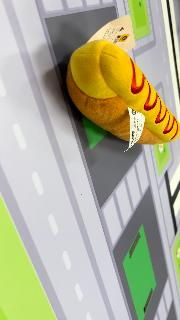hotdog: (66, 38, 180, 146)
